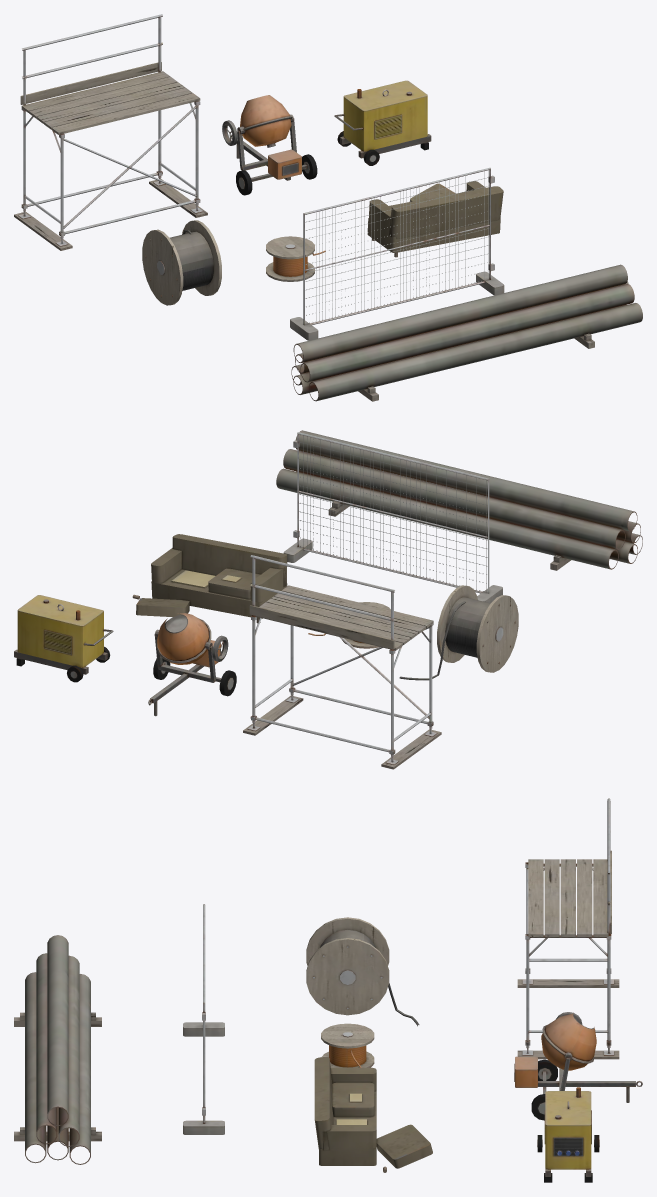
File: set_construction.glb
The picture shows the model from 3 angles, top to bottom: view 1: azimuth 30°, elevation 25°; view 2: azimuth 150°, elevation 25°; view 3: azimuth 270°, elevation 25°; orthographic projection. The views are drawn at different scales.
Visible parts, largest first — view 1: pipe_stack_lod0, scaffold_bay_lod0, fence_portable_lod0, sofa_broken_lod0, generator_lod0, cable_reel_lod0, cement_mixer_lod0, cable_reel_small_lod0; view 2: pipe_stack_lod0, scaffold_bay_lod0, sofa_broken_lod0, fence_portable_lod0, generator_lod0, cable_reel_lod0, cement_mixer_lod0; view 3: pipe_stack_lod0, scaffold_bay_lod0, sofa_broken_lod0, cable_reel_lod0, cement_mixer_lod0, generator_lod0, cable_reel_small_lod0, fence_portable_lod0.
Boxes of the visible parts, box(x1,y1,x2,y2) form: pipe_stack_lod0: box(291, 264, 642, 401); scaffold_bay_lod0: box(14, 14, 207, 250); fence_portable_lod0: box(290, 167, 504, 340); sofa_broken_lod0: box(367, 181, 503, 257); generator_lod0: box(334, 80, 431, 165); cable_reel_lod0: box(142, 220, 221, 305); cement_mixer_lod0: box(222, 95, 317, 195); cable_reel_small_lod0: box(266, 236, 325, 281); pipe_stack_lod0: box(276, 430, 642, 570); scaffold_bay_lod0: box(243, 555, 441, 769); sofa_broken_lod0: box(132, 534, 287, 623); fence_portable_lod0: box(283, 432, 502, 603); generator_lod0: box(14, 595, 113, 682); cable_reel_lod0: box(399, 585, 518, 680); cement_mixer_lod0: box(148, 613, 236, 716); pipe_stack_lod0: box(14, 935, 101, 1164); scaffold_bay_lod0: box(517, 798, 619, 1059); sofa_broken_lod0: box(314, 1057, 432, 1172); cable_reel_lod0: box(306, 917, 419, 1026); cement_mixer_lod0: box(514, 1012, 642, 1120); generator_lod0: box(537, 1087, 599, 1182); cable_reel_small_lod0: box(321, 1023, 374, 1067); fence_portable_lod0: box(183, 904, 224, 1134).
Size of what is drawn, in the model's own units: 7.09 by 3.06 by 9.3.
2 materials, 2 textured.
